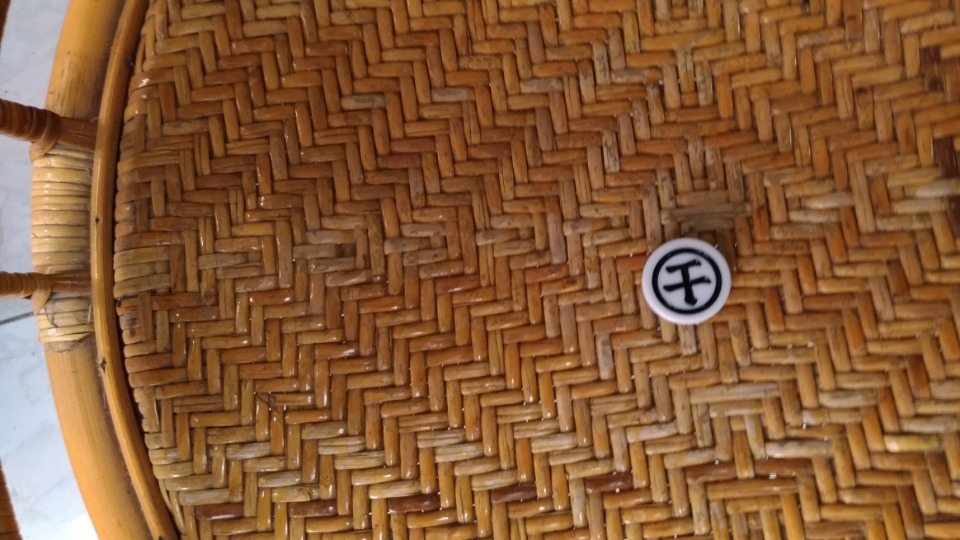b-advisor: (637, 236, 756, 343)
